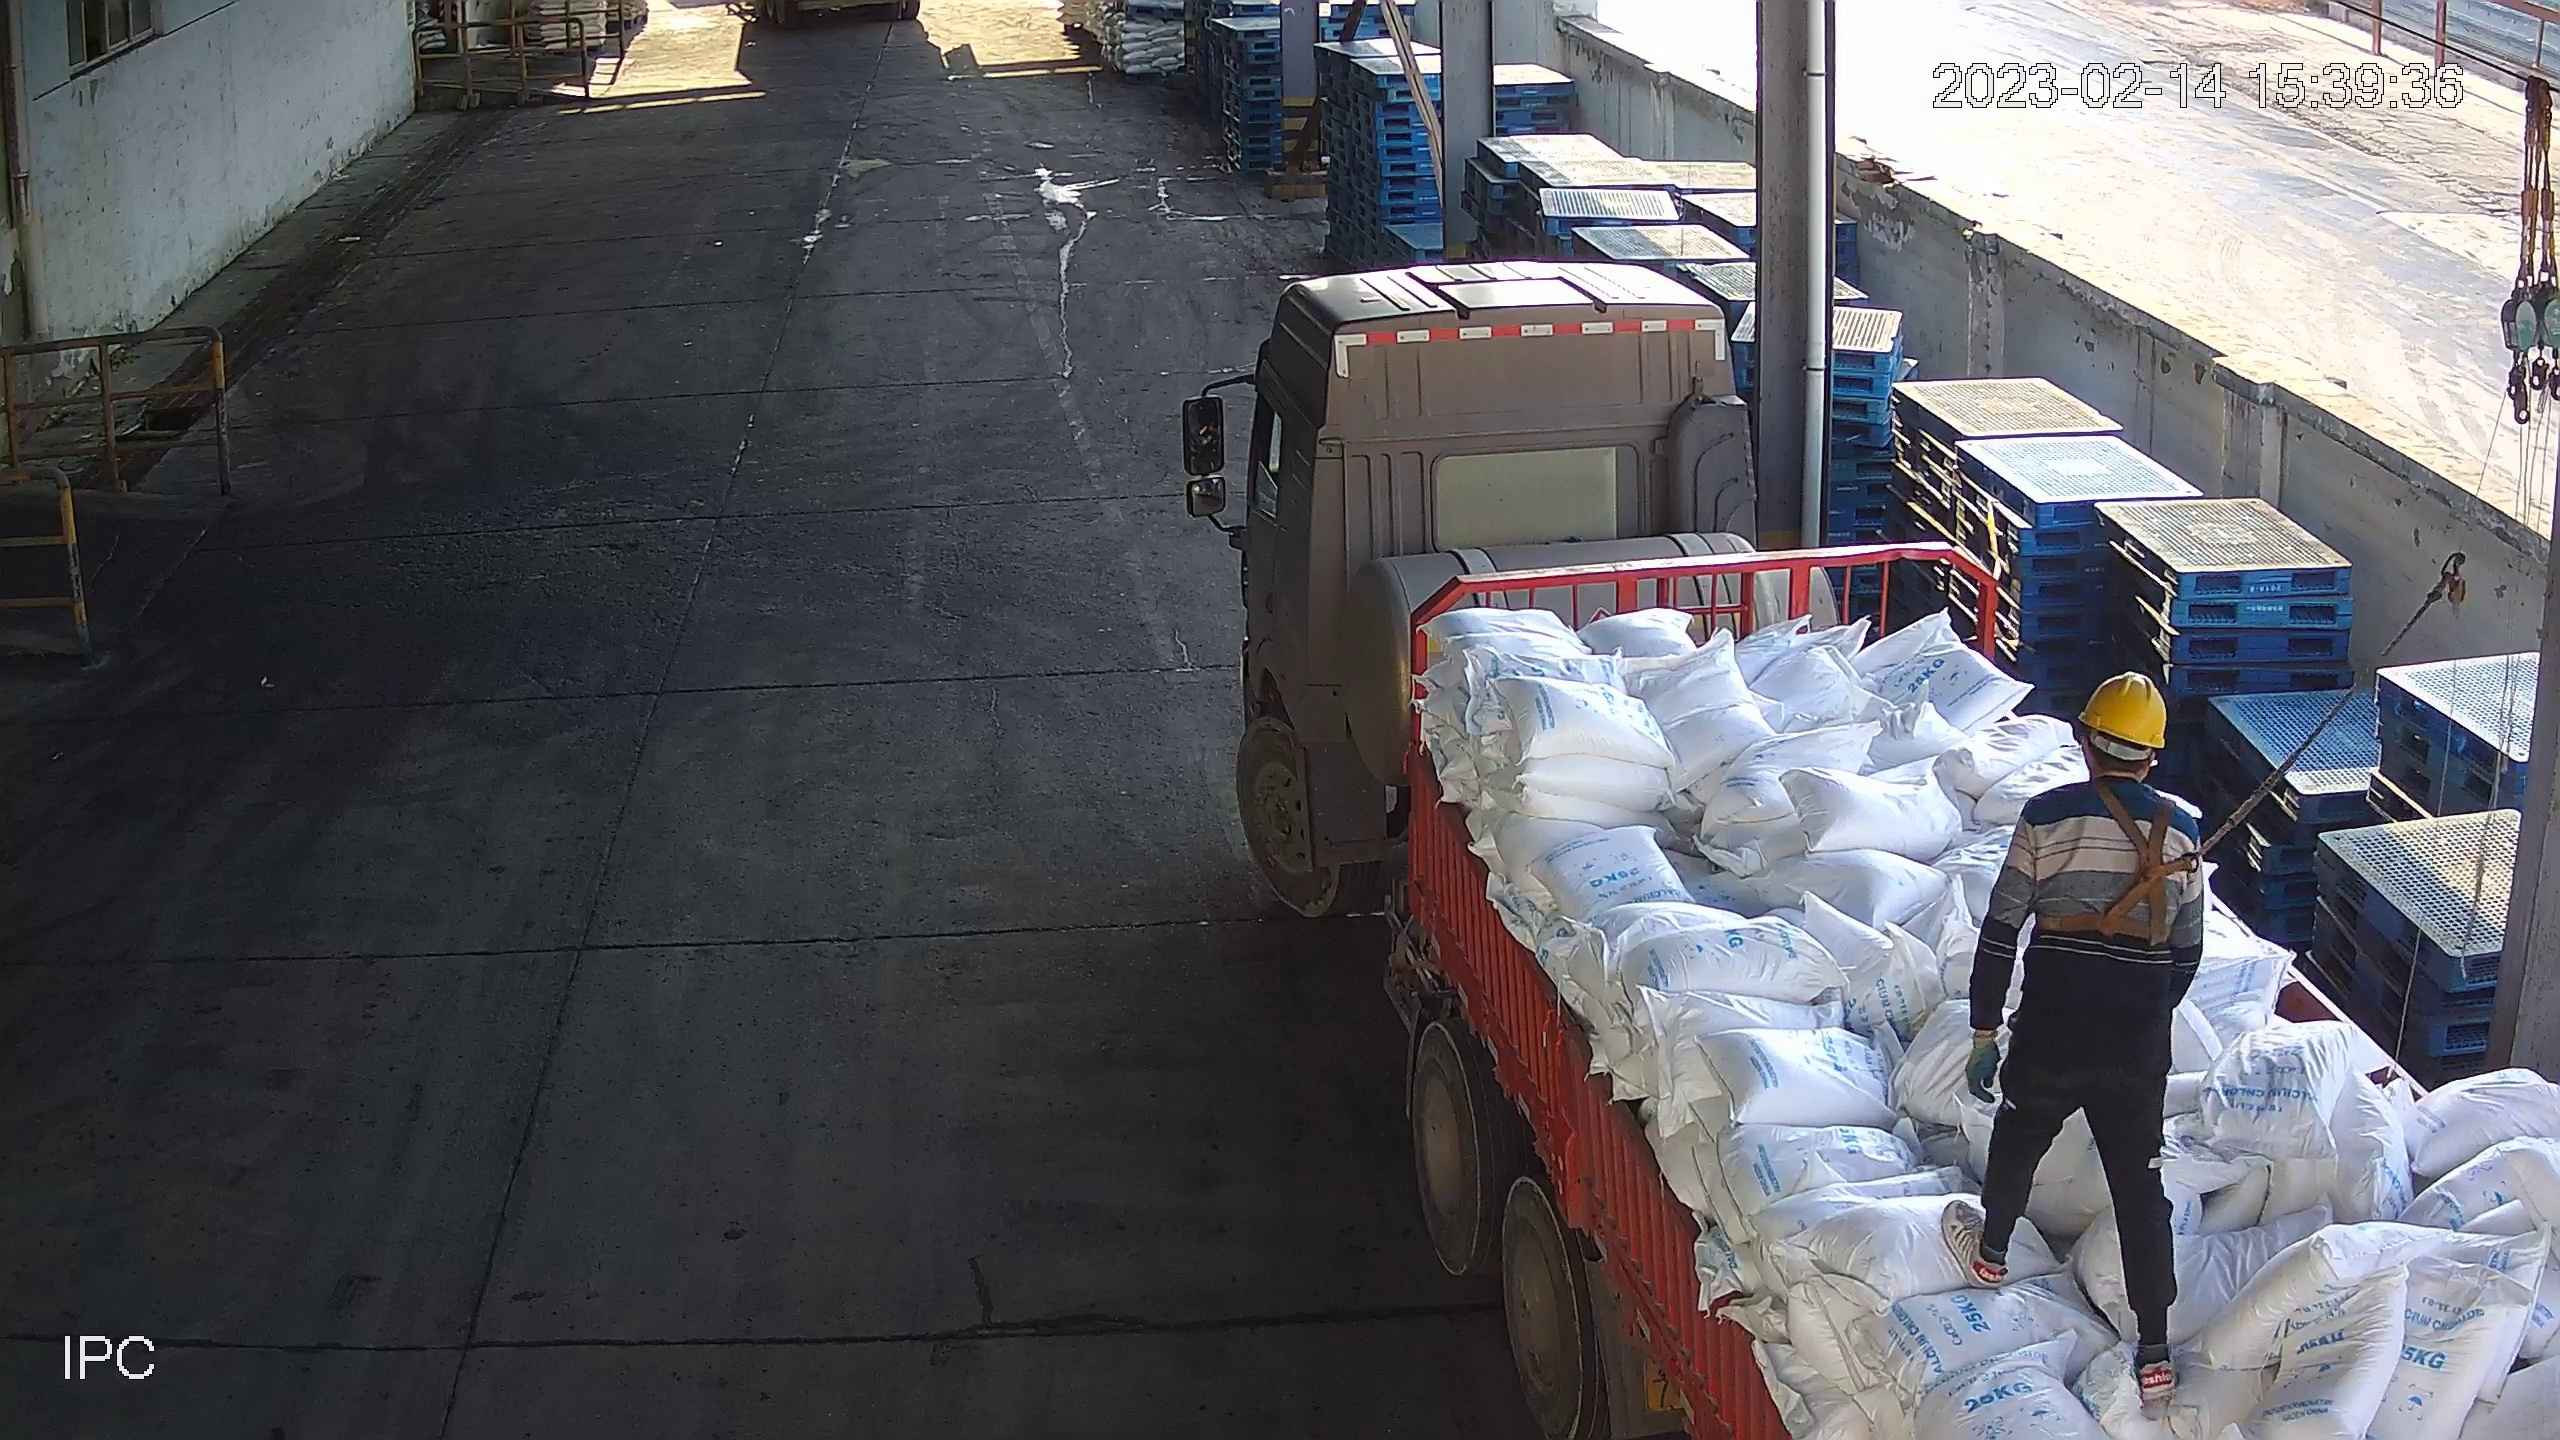belt: (2062, 781, 2221, 932)
head: (2020, 676, 2197, 841)
helmet: (2077, 672, 2170, 757)
people: (1944, 674, 2220, 1390)
truck: (1177, 260, 2560, 1440)
